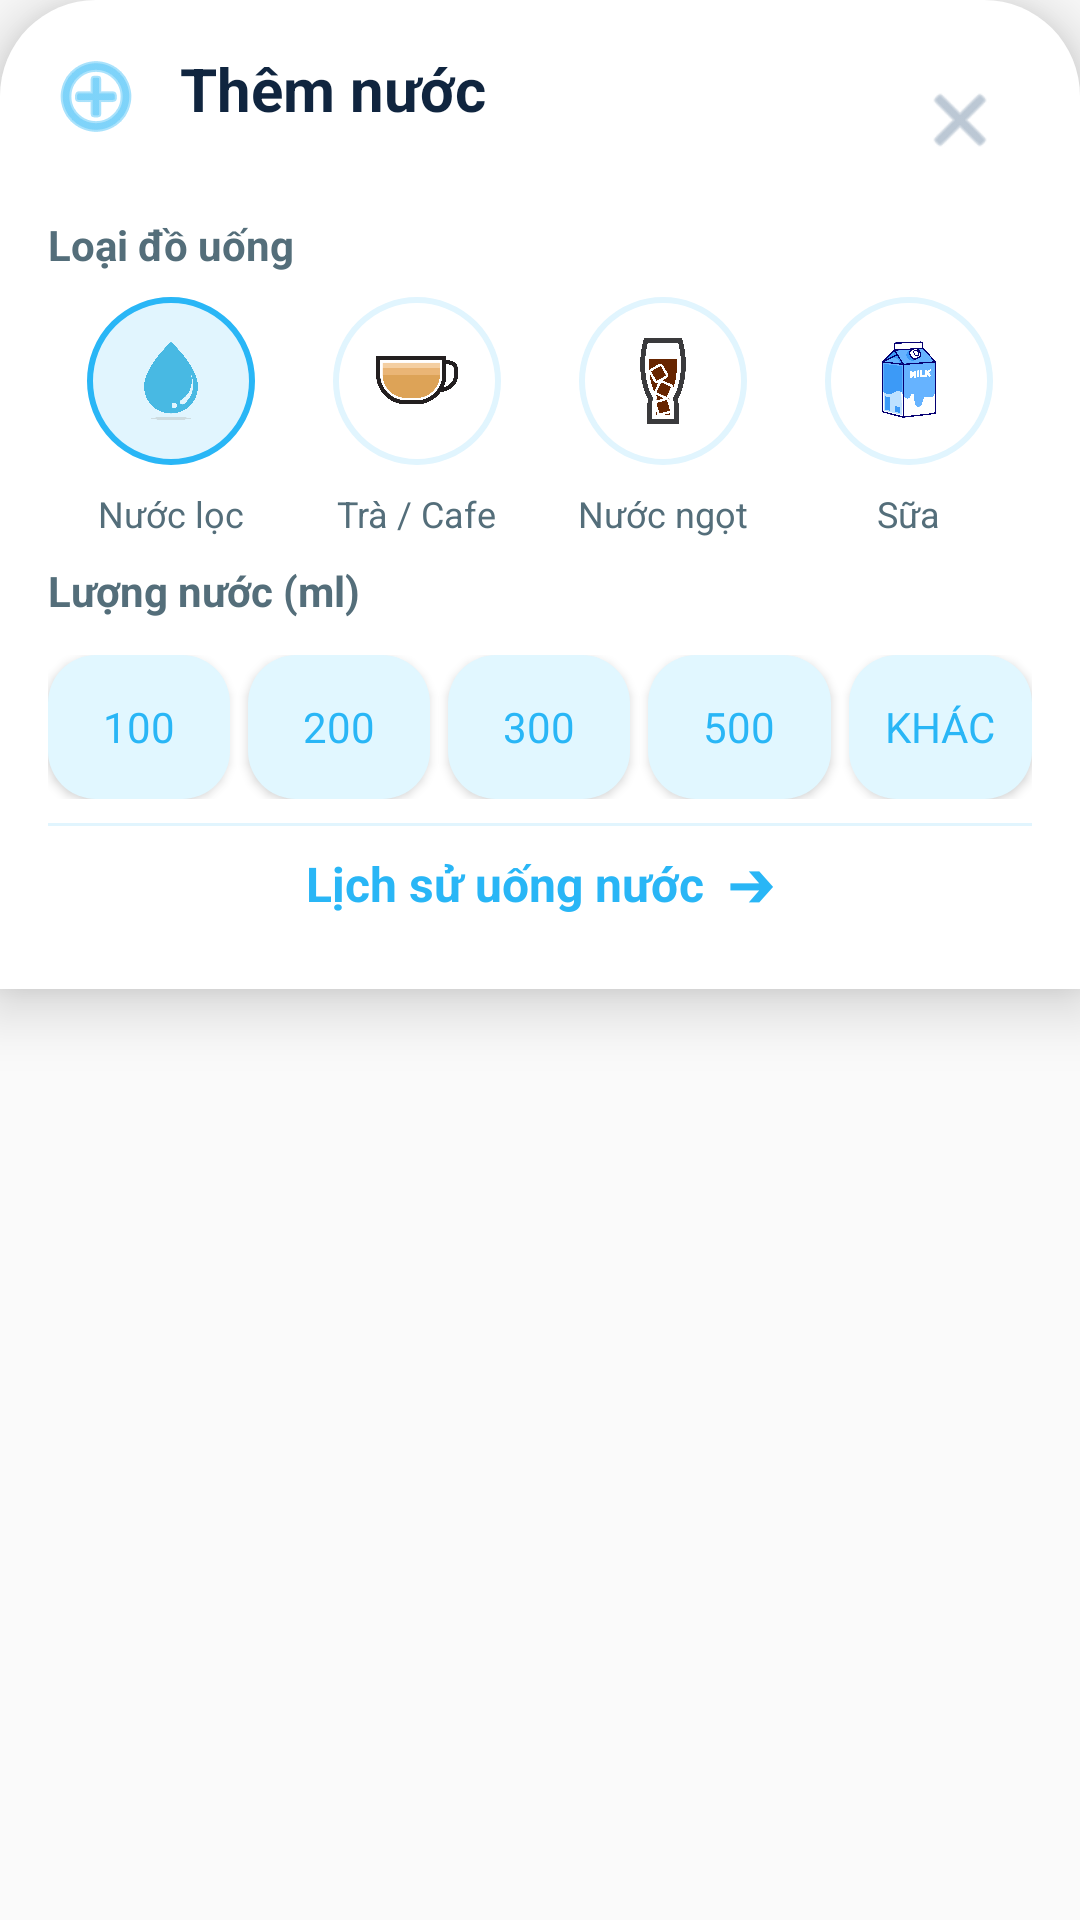

Icons on this 1080x1920 Android screen, each with the point to tap as [x,y]:
Ẩn thẻ thêm nước: [960,120]
